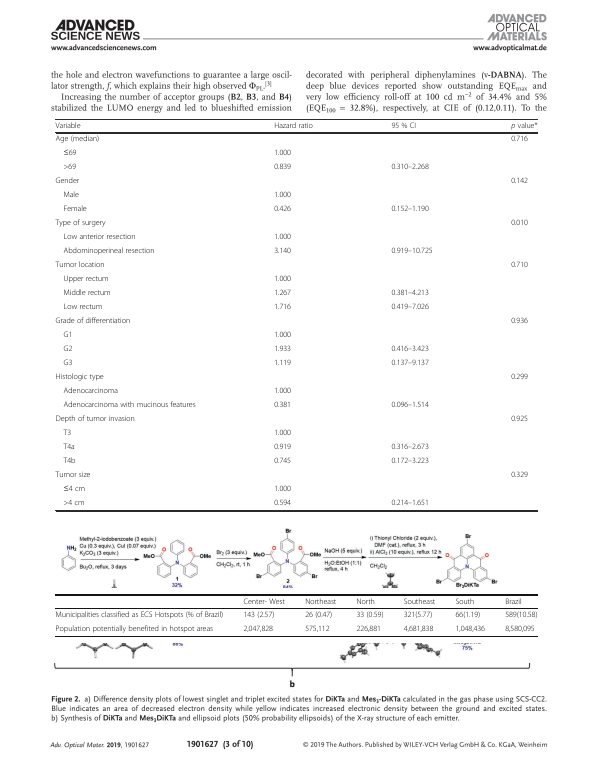borderless: (54, 118, 537, 510), (55, 593, 538, 636)
cell: (55, 610, 224, 620), (55, 624, 214, 634), (62, 401, 196, 411), (62, 247, 155, 257), (54, 415, 136, 425), (54, 317, 131, 327), (62, 233, 136, 243), (62, 387, 119, 397), (55, 219, 106, 229), (54, 373, 105, 383), (55, 261, 105, 271), (62, 289, 112, 299), (62, 275, 109, 285), (55, 135, 100, 145), (390, 247, 433, 257), (62, 303, 103, 313), (390, 163, 430, 173), (390, 205, 430, 215), (390, 289, 430, 299), (390, 303, 430, 313), (390, 345, 430, 355), (390, 359, 430, 369), (390, 401, 430, 411), (390, 443, 430, 453), (390, 457, 430, 467), (390, 499, 430, 509), (242, 597, 286, 606), (54, 471, 91, 481), (273, 122, 314, 131), (504, 610, 538, 620), (242, 610, 275, 620), (242, 624, 274, 634), (454, 624, 486, 634), (504, 624, 536, 634), (403, 624, 434, 634), (403, 610, 433, 620), (304, 597, 337, 606), (403, 597, 436, 606), (304, 610, 333, 620), (355, 610, 384, 620), (454, 610, 481, 620), (355, 624, 382, 634), (62, 205, 88, 215), (304, 624, 330, 634), (510, 122, 538, 131), (55, 177, 80, 187), (390, 122, 417, 131), (62, 485, 86, 495), (55, 122, 81, 131), (62, 499, 85, 509), (510, 135, 529, 145), (273, 149, 292, 159), (273, 163, 292, 173), (510, 177, 529, 187), (273, 191, 292, 201), (273, 205, 292, 215), (510, 219, 529, 229), (273, 233, 292, 243), (273, 247, 292, 257), (510, 261, 529, 271), (273, 275, 292, 285), (273, 289, 292, 299), (273, 303, 292, 313), (510, 317, 529, 327), (273, 331, 292, 341), (273, 345, 292, 355), (273, 359, 292, 369), (510, 373, 529, 383), (273, 387, 292, 397), (273, 401, 292, 411), (510, 415, 529, 425), (273, 429, 292, 439), (273, 443, 292, 453), (273, 457, 292, 467), (510, 471, 529, 481), (273, 485, 292, 495), (273, 499, 292, 509), (355, 597, 376, 606), (454, 597, 475, 606), (62, 191, 80, 201), (504, 597, 523, 606), (62, 149, 77, 159), (62, 163, 77, 173), (62, 443, 76, 453), (62, 457, 76, 467), (62, 331, 73, 341), (62, 345, 73, 355), (62, 359, 73, 369), (62, 429, 72, 439)
